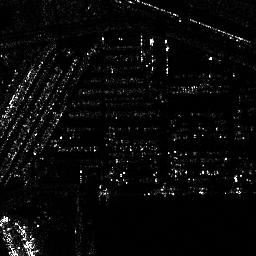ship: (12, 220, 39, 256), (1, 215, 21, 256)
